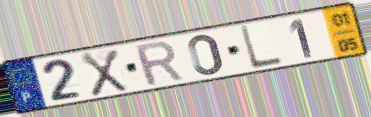0: (185, 33, 224, 77)
1: (288, 18, 315, 60)
2: (42, 57, 89, 105)
L: (238, 24, 285, 72)
R: (132, 38, 187, 88)
X: (78, 48, 130, 98)
